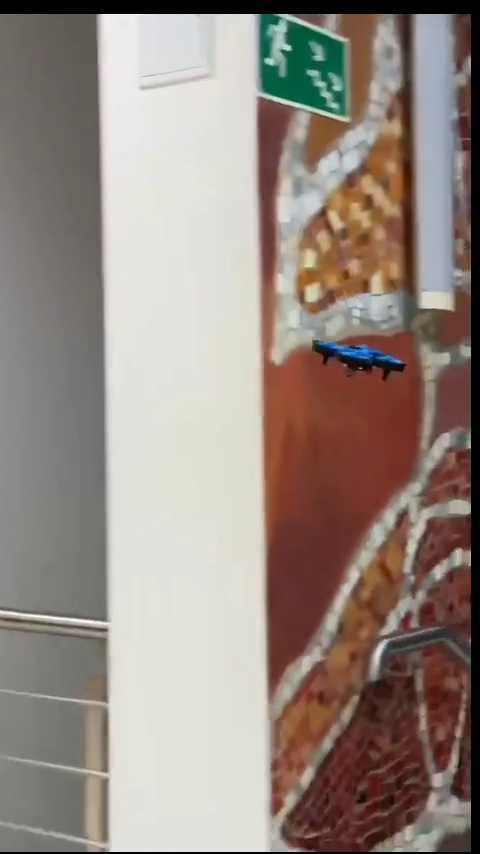drone: (301, 336, 415, 387)
